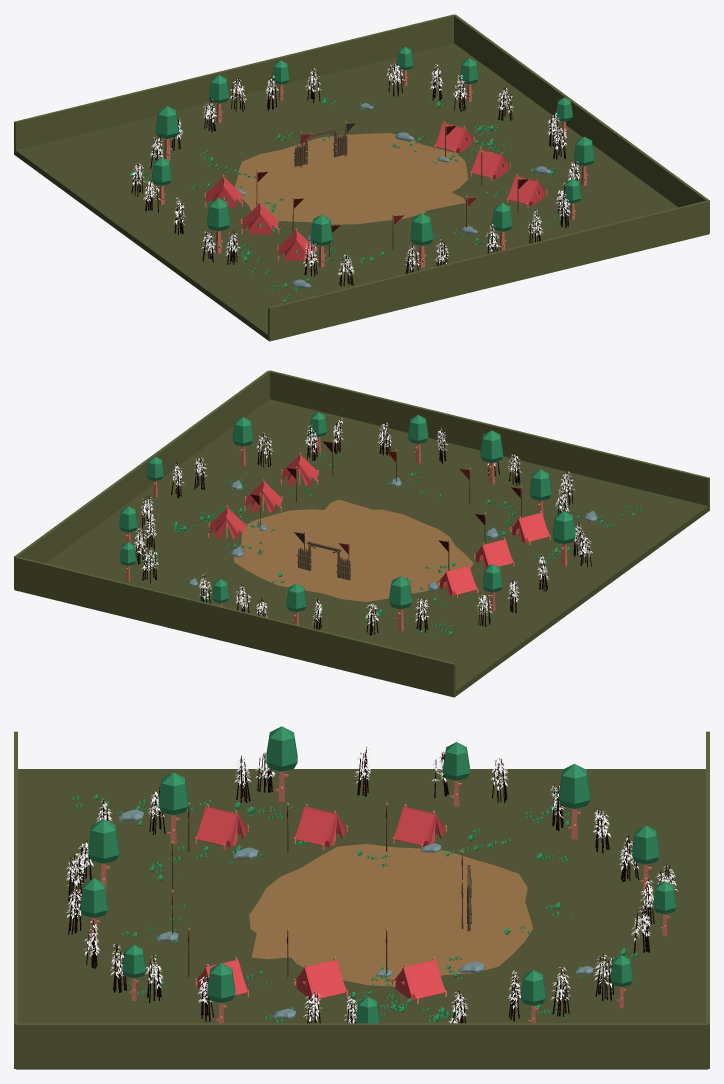
Rendered from PhaoDaiNgamQuanAn_Environment.glb.
3 renders of one model, top to bottom at view 1: azimuth 30°, elevation 25°; view 2: azimuth 150°, elevation 25°; view 3: azimuth 270°, elevation 25°, orthographic. The views are drawn at different scales.
Parts seen in each view (by area): view 1: DatLang, _MeshInstance3D_703, BaiChienDatNen, _MeshInstance3D_697, _MeshInstance3D_700, tent_detailedOpen6, tent_detailedOpen3, tree_default_dark8, tent_detailedOpen7, tree_default_dark10, tree_default_dark6, tent_detailedOpen5 (+8 smaller); view 2: DatLang, _MeshInstance3D_697, BaiChienDatNen, _MeshInstance3D_703, _MeshInstance3D_700, tent_detailedOpen2, tent_detailedOpen4, tree_default_dark8, tent_detailedOpen3, tree_default_dark10, tree_default_dark6, SharpenedTimberAndLintel (+8 smaller); view 3: DatLang, _MeshInstance3D_700, BaiChienDatNen, tent_detailedOpen5, tent_detailedOpen6, tent_detailedOpen4, tent_detailedOpen3, tent_detailedOpen2, tree_default_dark8, tree_default_dark10, tree_default_dark6, tree_default_dark7 (+13 smaller).
Part boxes in pixels (box(x1,y1,x2,y2)): DatLang: box(14, 43, 677, 339); _MeshInstance3D_703: box(268, 200, 709, 341); BaiChienDatNen: box(235, 133, 467, 224); _MeshInstance3D_697: box(14, 14, 454, 154); _MeshInstance3D_700: box(454, 14, 709, 233); tent_detailedOpen6: box(470, 147, 510, 181); tent_detailedOpen3: box(241, 201, 279, 234); tree_default_dark8: box(207, 198, 229, 253); tent_detailedOpen7: box(506, 174, 547, 208); tree_default_dark10: box(155, 106, 178, 160); tree_default_dark6: box(410, 213, 433, 267); tent_detailedOpen5: box(434, 121, 474, 154); DatLang: box(46, 399, 709, 695); _MeshInstance3D_697: box(14, 556, 455, 697); BaiChienDatNen: box(233, 509, 473, 601); _MeshInstance3D_703: box(269, 370, 709, 510); _MeshInstance3D_700: box(14, 370, 270, 589); tent_detailedOpen2: box(437, 564, 478, 598); tent_detailedOpen4: box(510, 511, 550, 545); tree_default_dark8: box(552, 511, 575, 566); tent_detailedOpen3: box(473, 537, 514, 567); tree_default_dark10: box(389, 576, 411, 631); tree_default_dark6: box(480, 430, 502, 485); SharpenedTimberAndLintel: box(297, 541, 350, 580); DatLang: box(18, 769, 705, 1023); _MeshInstance3D_700: box(16, 1023, 707, 1069); BaiChienDatNen: box(249, 844, 532, 986); tent_detailedOpen5: box(392, 957, 446, 1003); tent_detailedOpen6: box(293, 957, 347, 1003); tent_detailedOpen4: box(194, 804, 248, 850); tent_detailedOpen3: box(293, 804, 347, 850); tent_detailedOpen2: box(392, 804, 446, 849); tree_default_dark8: box(266, 726, 297, 801); tree_default_dark10: box(559, 764, 590, 839); tree_default_dark6: box(88, 819, 118, 893); tree_default_dark7: box(158, 772, 188, 843).
Bounding box in the file's own units: 84.25 × 10.95 × 84.5.
